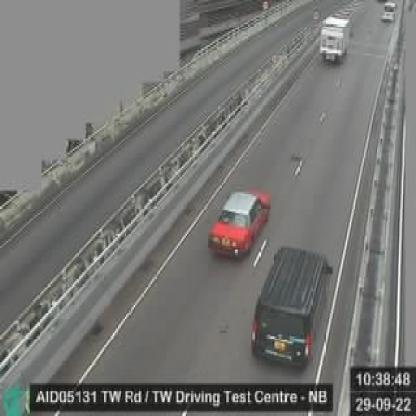Car: (239, 241, 337, 369), (203, 184, 277, 260), (378, 0, 402, 28)
Truck: (316, 16, 354, 69)
